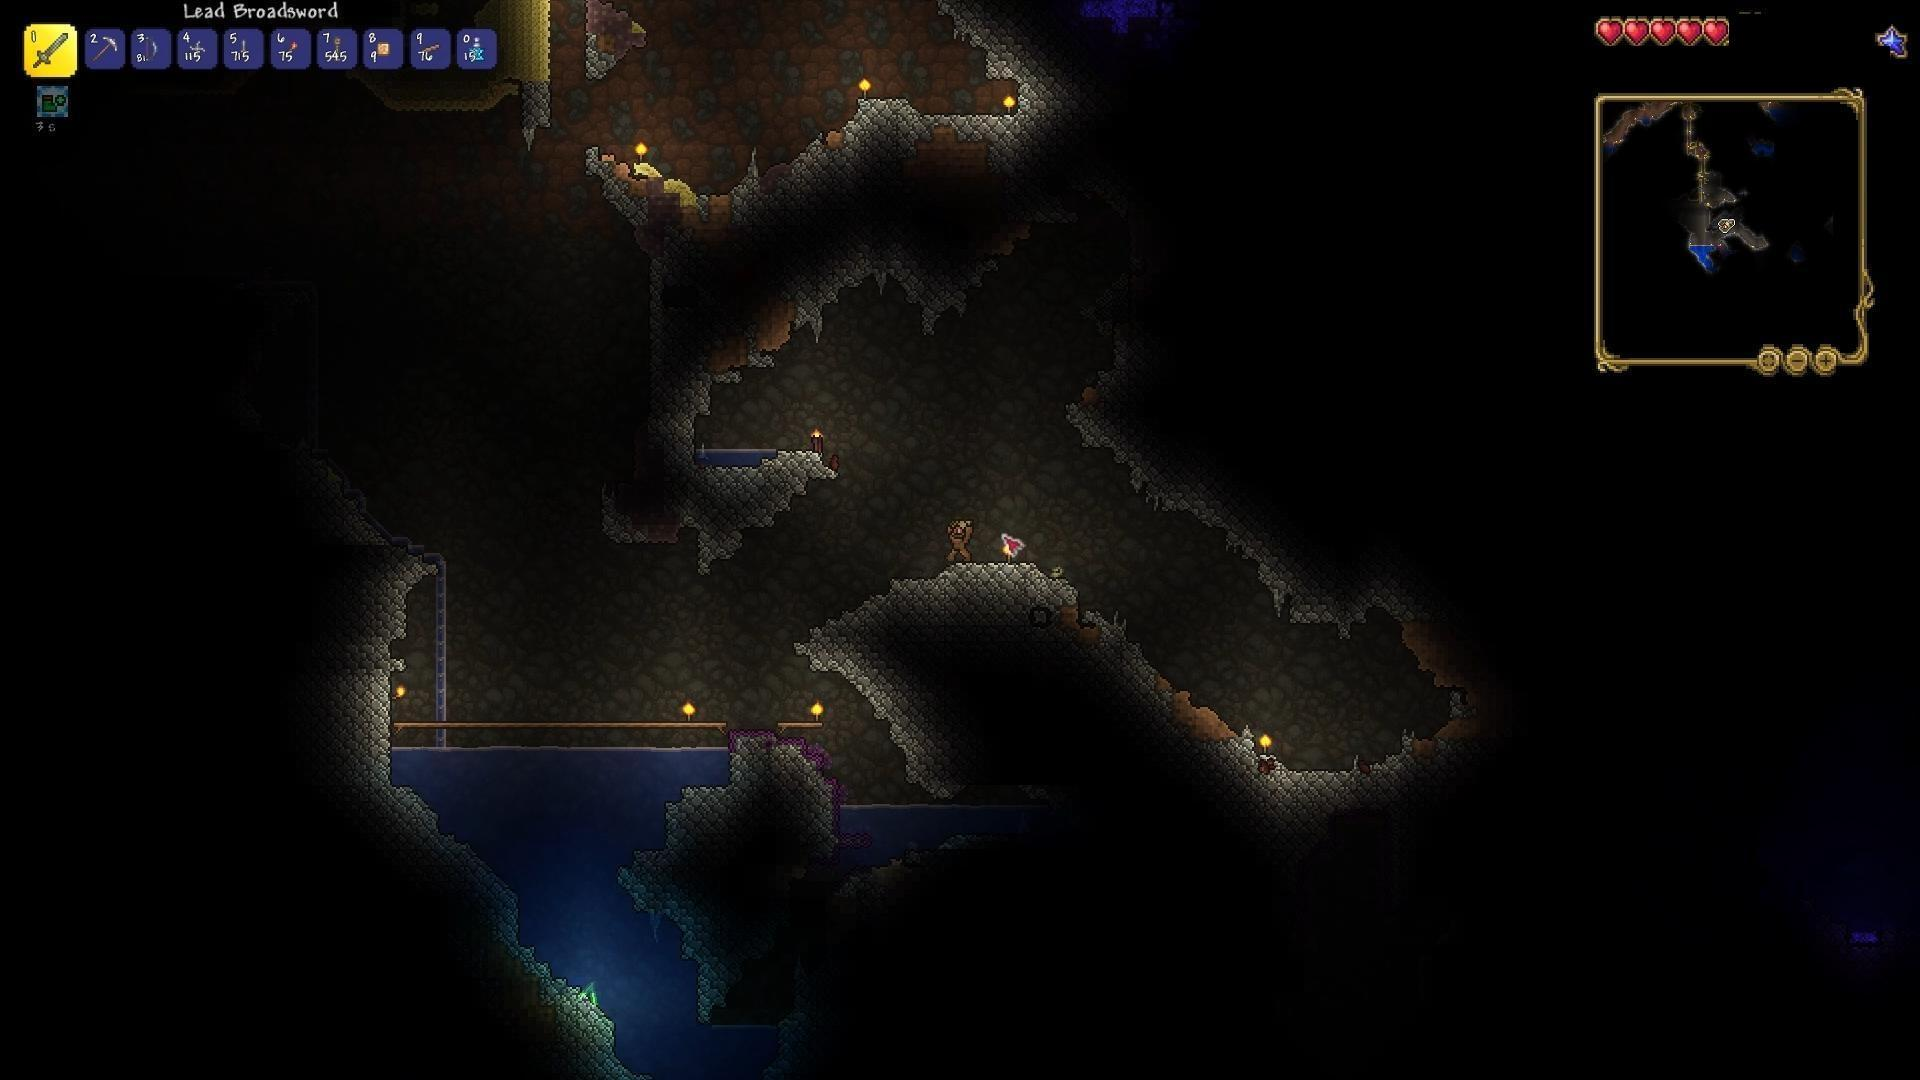heart: (1702, 17, 1733, 51), (1593, 16, 1626, 46), (1676, 15, 1704, 50), (1650, 16, 1676, 49), (1625, 15, 1651, 44)
liquid: (378, 733, 732, 765), (833, 794, 930, 822)
sand: (520, 0, 558, 92)
stone: (789, 556, 1062, 757), (588, 140, 835, 357), (1069, 388, 1298, 615), (833, 83, 1026, 328), (588, 380, 815, 564), (286, 462, 404, 774), (613, 775, 816, 955), (357, 774, 525, 931), (517, 957, 620, 1080), (1095, 613, 1185, 738), (1244, 753, 1394, 819), (1296, 550, 1422, 622)
